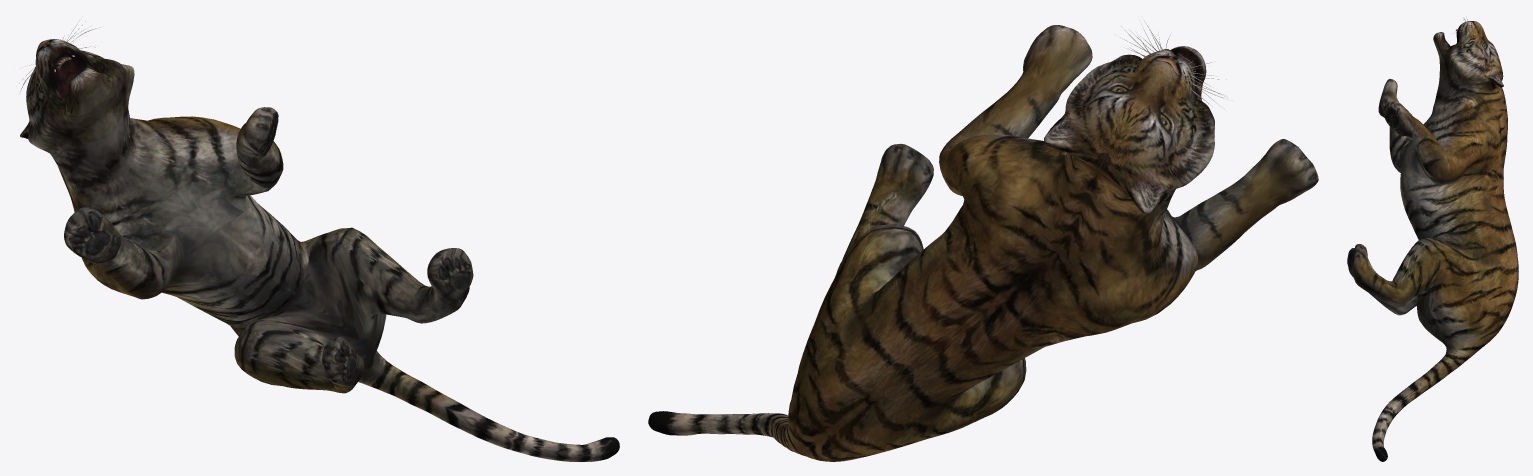
The model's file is asset.glb.
3 views of the same model, side by side, from view 1: azimuth 30°, elevation 25°; view 2: azimuth 150°, elevation 25°; view 3: azimuth 270°, elevation 25° (orthographic). The views are drawn at different scales.
Visible parts, largest first — view 1: D1201A12; view 2: D1201A12; view 3: D1201A12.
Part boxes in pixels (x1=…): D1201A12: x1=19, y1=20, x2=619, y2=461; D1201A12: x1=648, y1=21, x2=1318, y2=461; D1201A12: x1=1347, y1=18, x2=1518, y2=461.
Bounding box in the file's own units: 266 × 233 × 117.
1 material, 1 textured.
